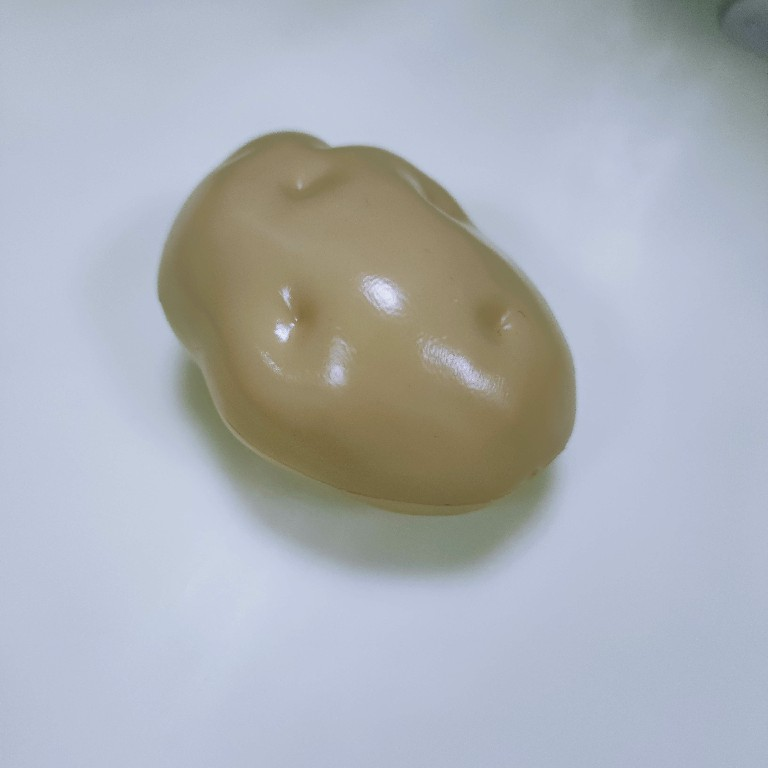fruit_potato: (154, 128, 580, 522)
